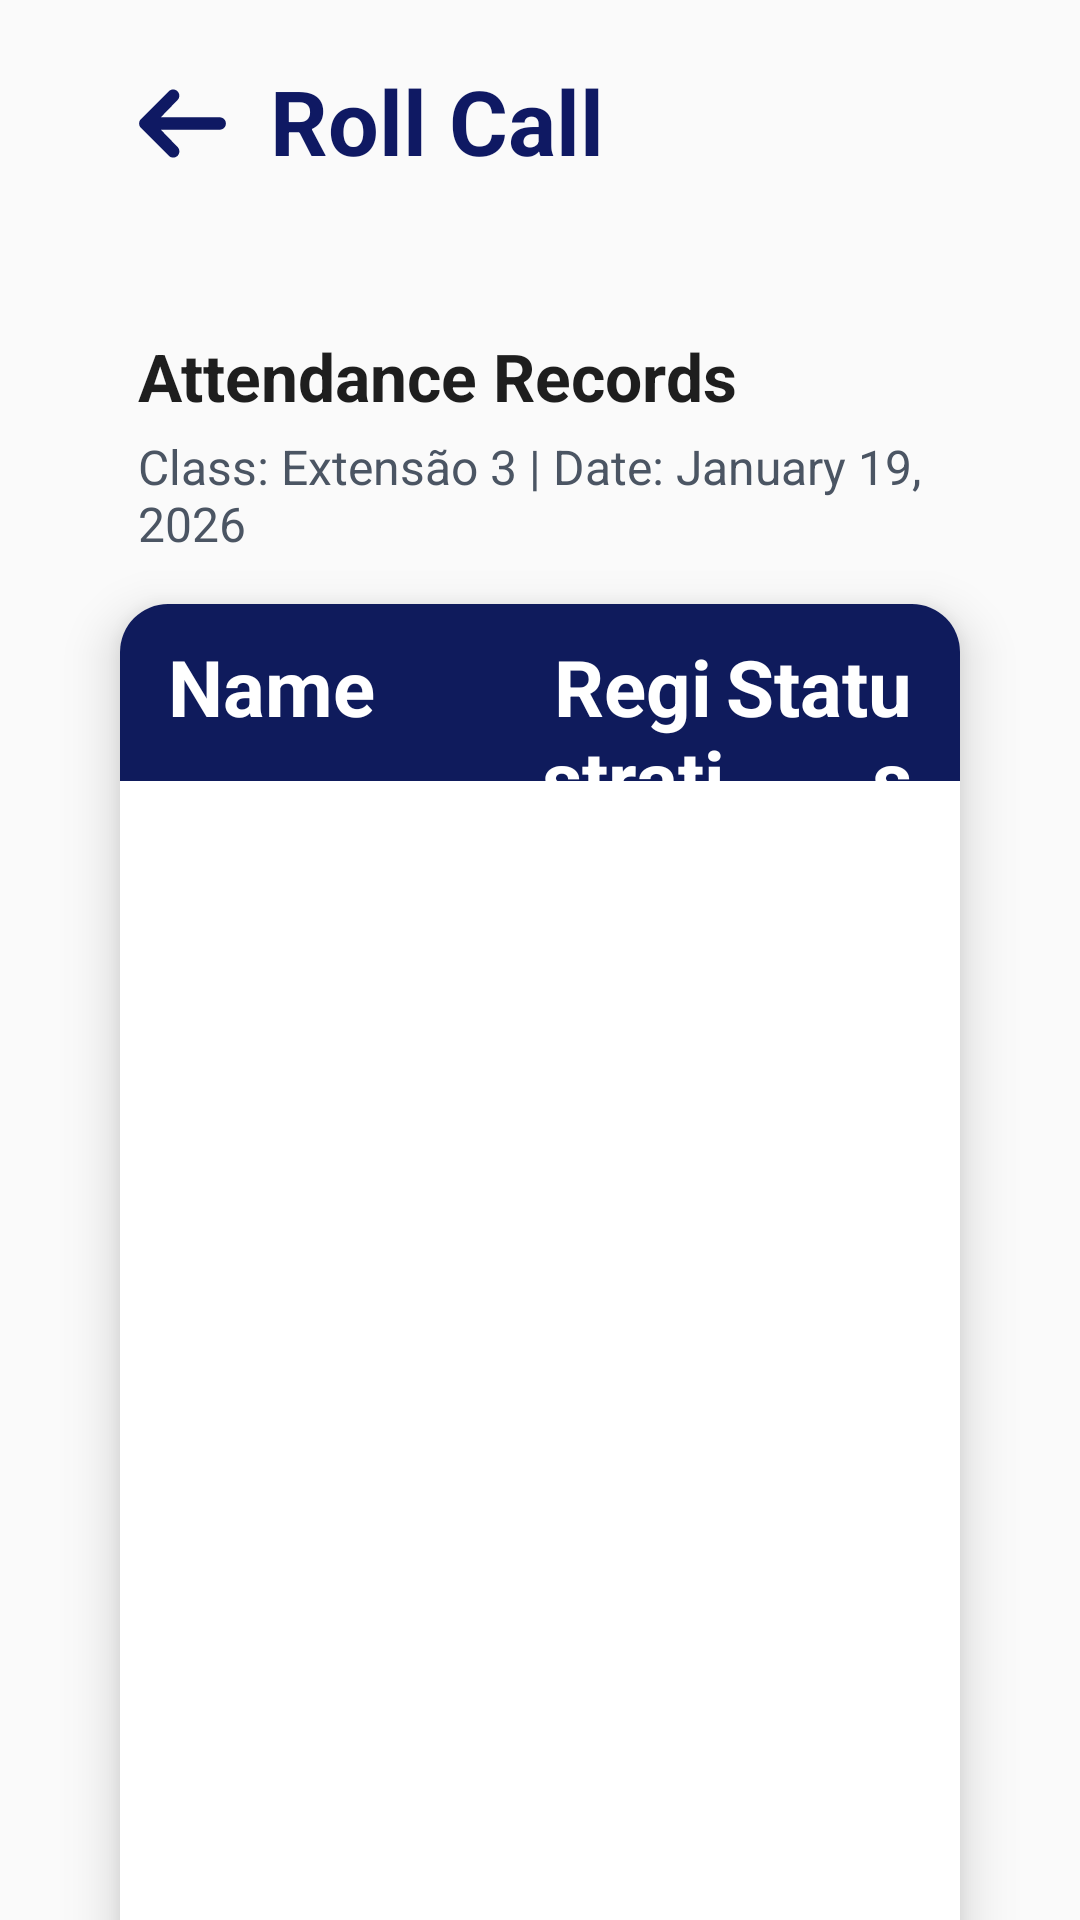

Icons on this 1080×1920 Android screen, each with its box as (x1, y1, x2, y2):
Button of back view: (139, 89, 226, 158)
